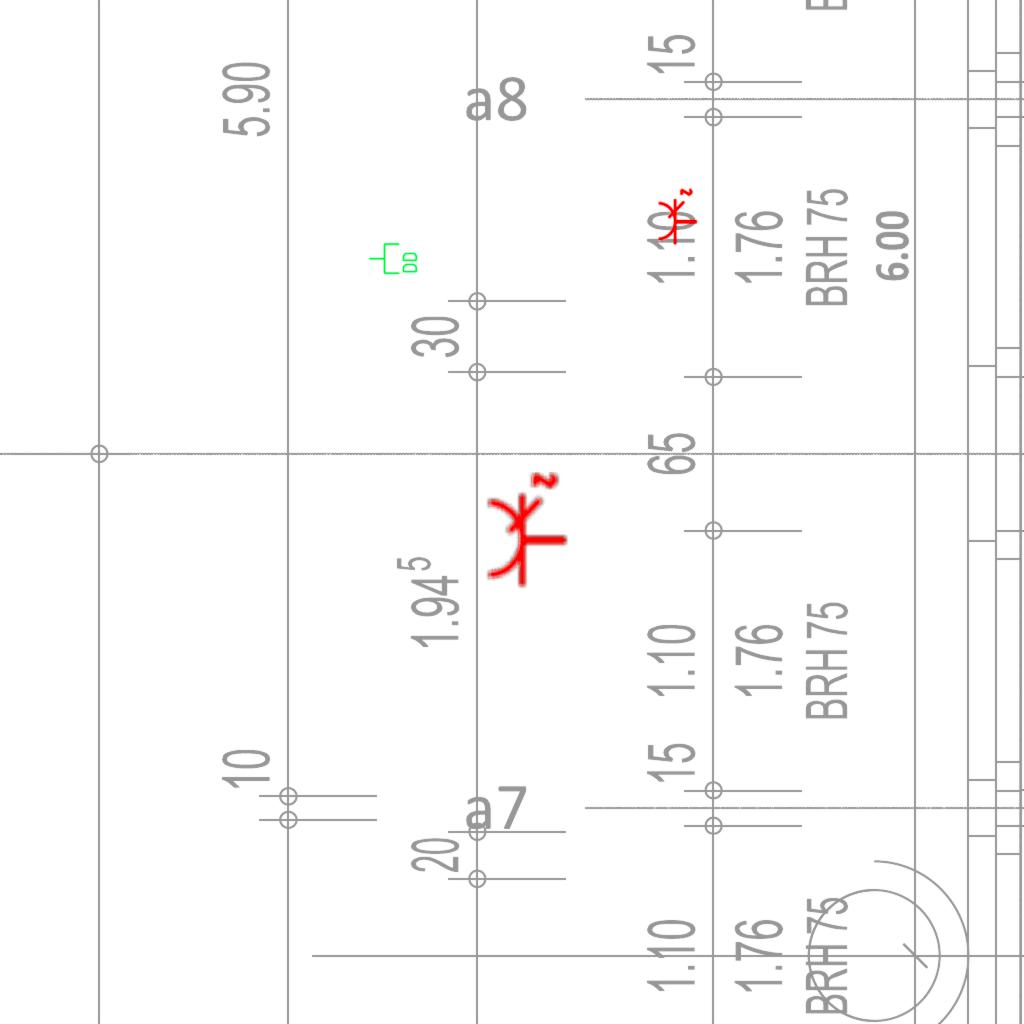Datenanschluss_zweifach: (368, 242, 419, 276)
Schukosteckdose_mehrfach: (484, 470, 572, 591), (656, 187, 700, 247)
